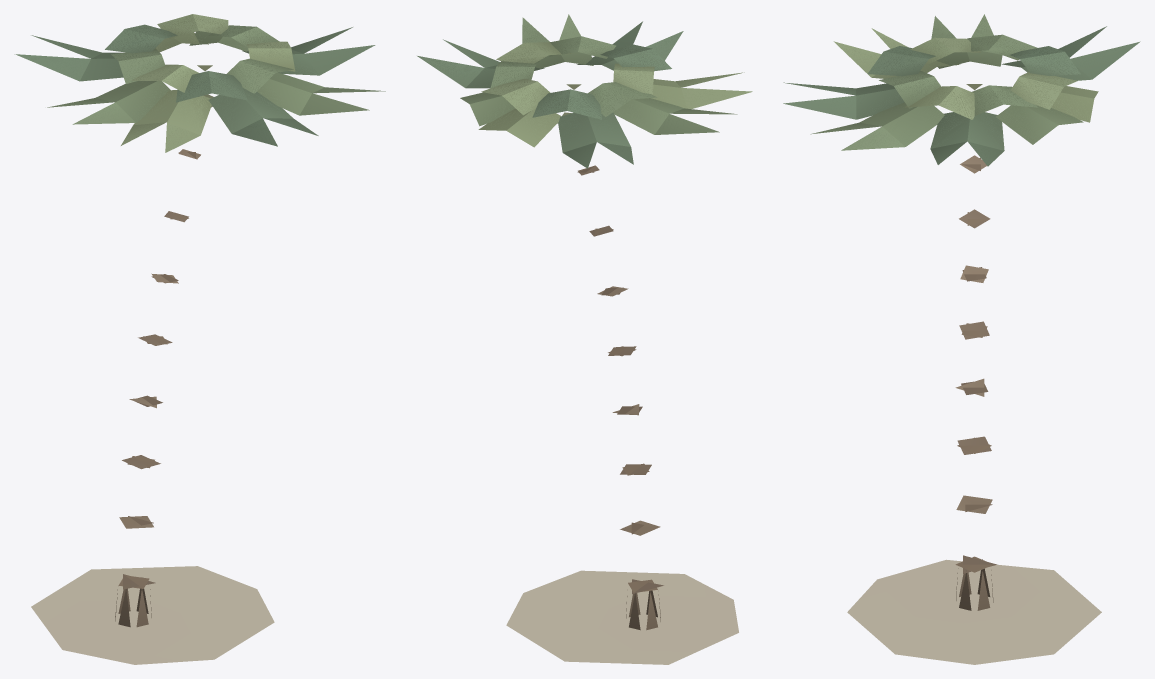
Rendered from palm_0.lod.glb.
The picture shows the model from 3 angles, left to right: view 1: azimuth 30°, elevation 25°; view 2: azimuth 150°, elevation 25°; view 3: azimuth 270°, elevation 25°; orthographic projection. The views are drawn at different scales.
Parts seen in each view (by area): view 1: palm_0; view 2: palm_0; view 3: palm_0.
Boxes of the visible parts, x1,y1,x2,y2 form: palm_0: (14,14,385,664); palm_0: (417,14,752,664); palm_0: (783,14,1140,664).
Bounding box in the file's own units: 4.79 × 8.41 × 4.61.
